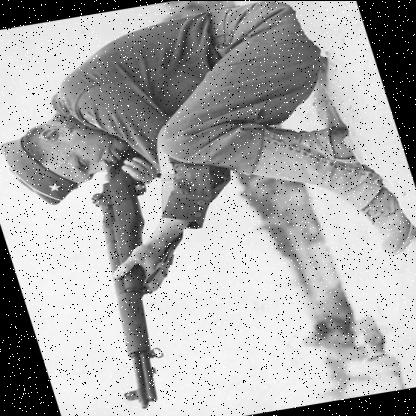rifle: (45, 147, 227, 413)
